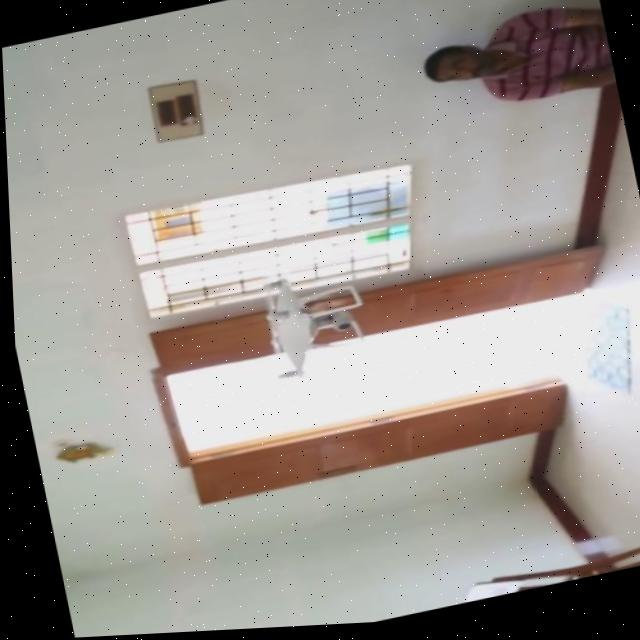drones: (236, 234, 427, 428)
